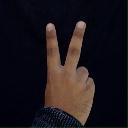hand: (43, 20, 95, 126)
